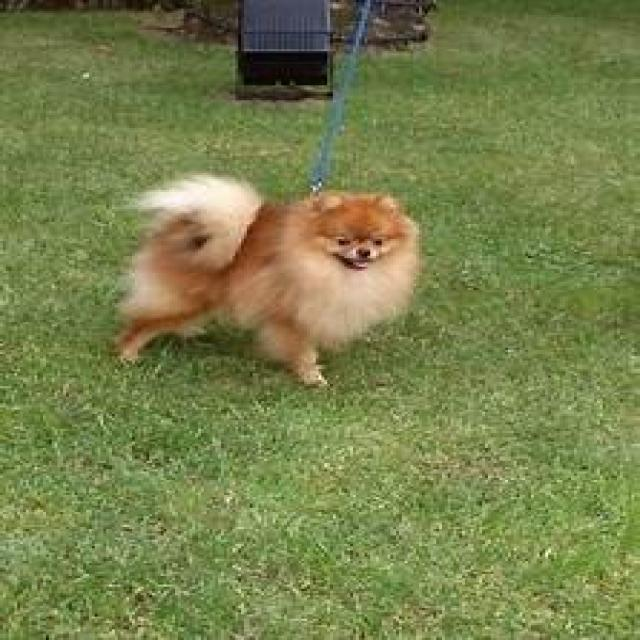dog: (115, 173, 425, 390)
